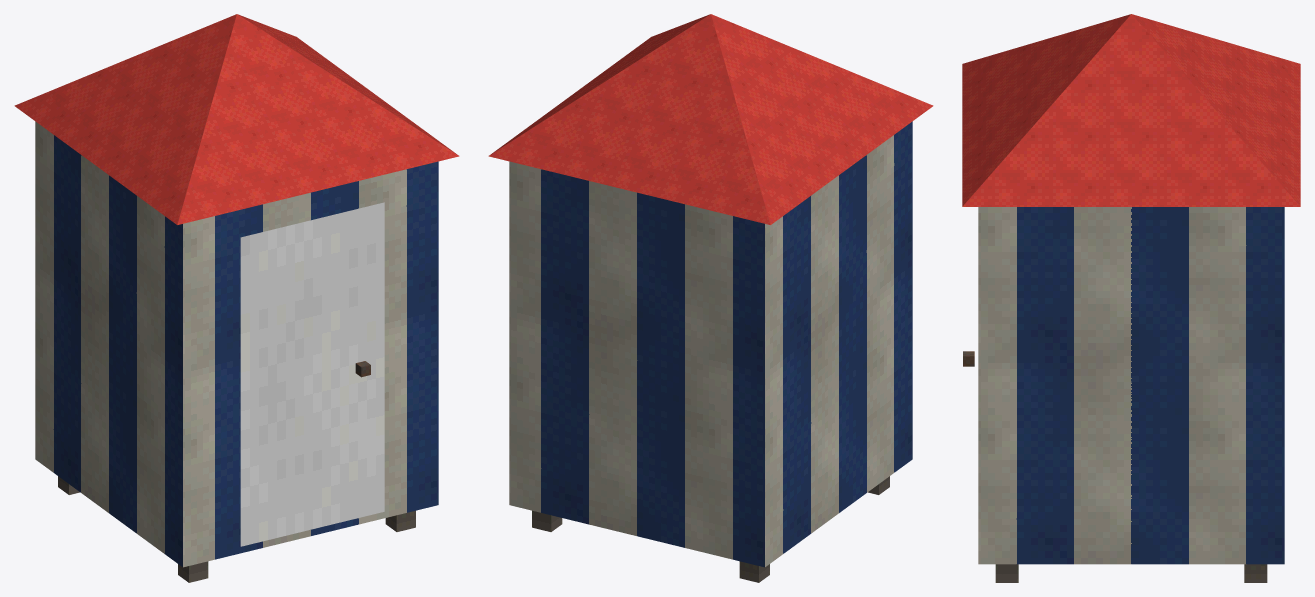
Rendered from caseta_bano.obj.
3 views of the same model, side by side, from view 1: azimuth 30°, elevation 25°; view 2: azimuth 150°, elevation 25°; view 3: azimuth 270°, elevation 25° (orthographic). The views are drawn at different scales.
Parts seen in each view (by area): view 1: caseta_bano; view 2: caseta_bano; view 3: caseta_bano.
Boxes of the visible parts, x1,y1,x2,y2 form: caseta_bano: (14,14,459,582); caseta_bano: (488,14,933,582); caseta_bano: (962,14,1300,582).
Bounding box in the file's own units: 1.77 × 2.95 × 1.77.
Materials: 5 (5 with a texture image).
